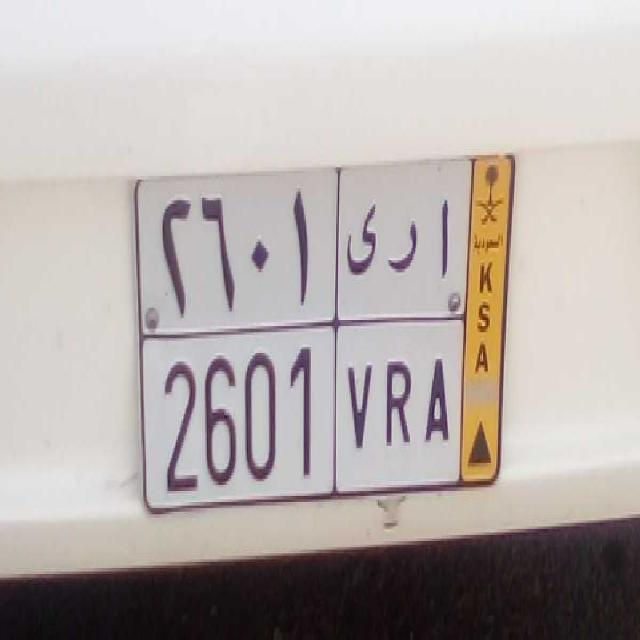license_plate: (139, 328, 465, 505)
